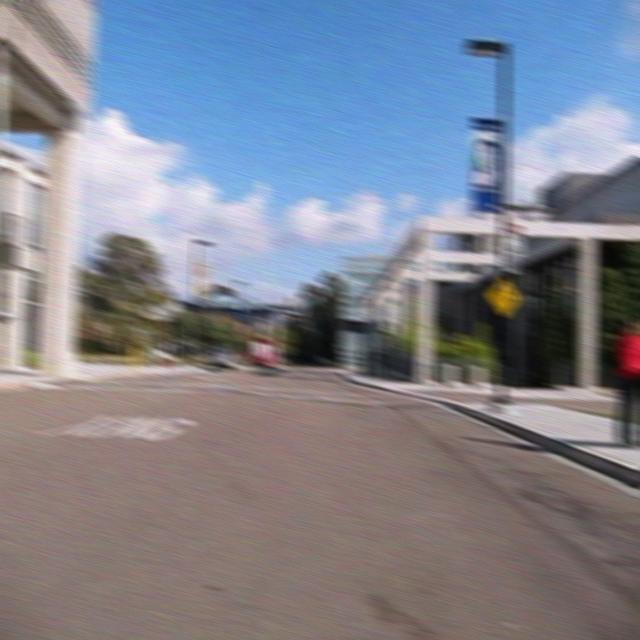pedestrianCrossing: (485, 274, 521, 318)
